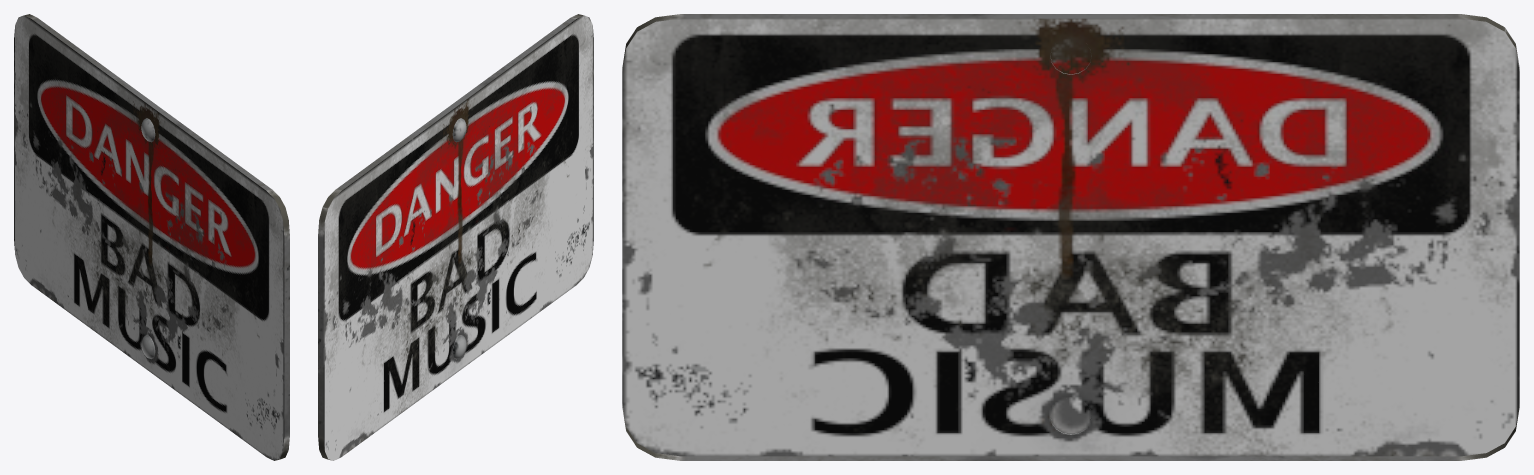
Rendered from Prop_TrafficSign_4.fbx.
3 renders of one model, left to right at view 1: azimuth 30°, elevation 25°; view 2: azimuth 150°, elevation 25°; view 3: azimuth 270°, elevation 25°, orthographic. The views are drawn at different scales.
Visible parts, largest first — view 1: Prop_TrafficSign_4; view 2: Prop_TrafficSign_4; view 3: Prop_TrafficSign_4.
Part boxes in pixels (x1=…): Prop_TrafficSign_4: x1=14, y1=14, x2=289, y2=460; Prop_TrafficSign_4: x1=318, y1=14, x2=593, y2=460; Prop_TrafficSign_4: x1=622, y1=14, x2=1519, y2=460.
Size of the model in its own units: 0.8328 by 19.81 by 36.4.
